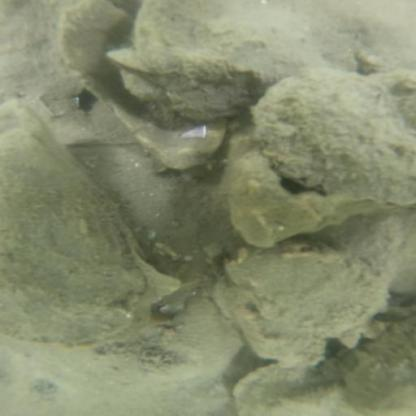Oyster- Indeterminate: (1, 108, 142, 344)
Oyster-Closed: (125, 2, 367, 106), (248, 69, 408, 203), (232, 240, 394, 357), (95, 296, 233, 381), (124, 64, 250, 120)
